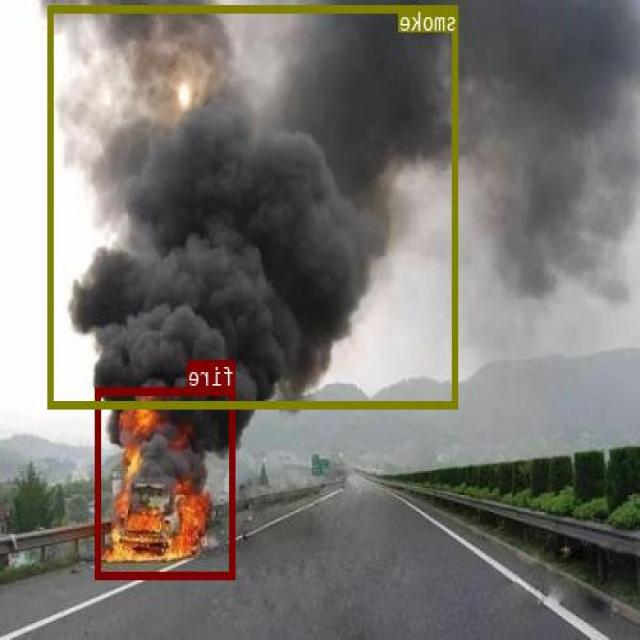fire: (96, 387, 236, 577)
smoke: (49, 4, 460, 407)
